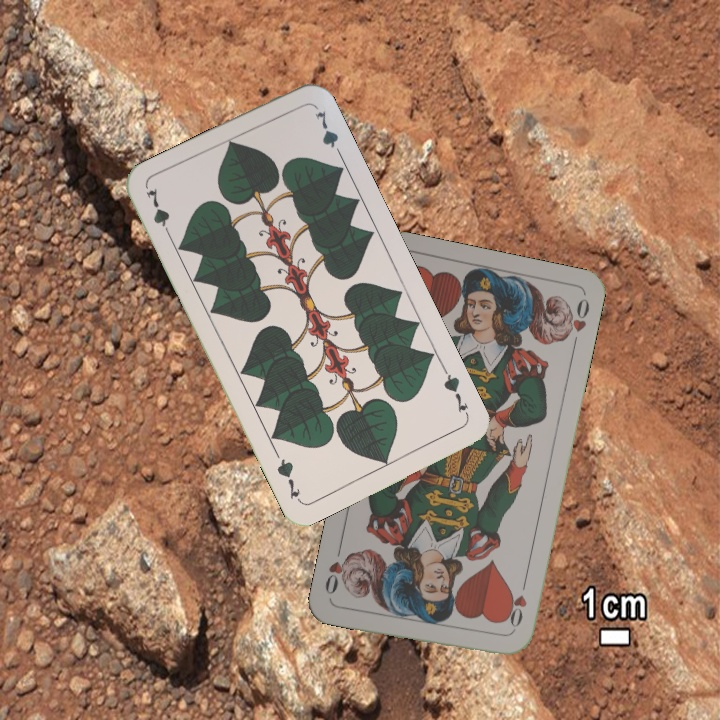G7: (141, 184, 175, 242), (439, 364, 472, 419)
HO: (501, 578, 529, 636)
